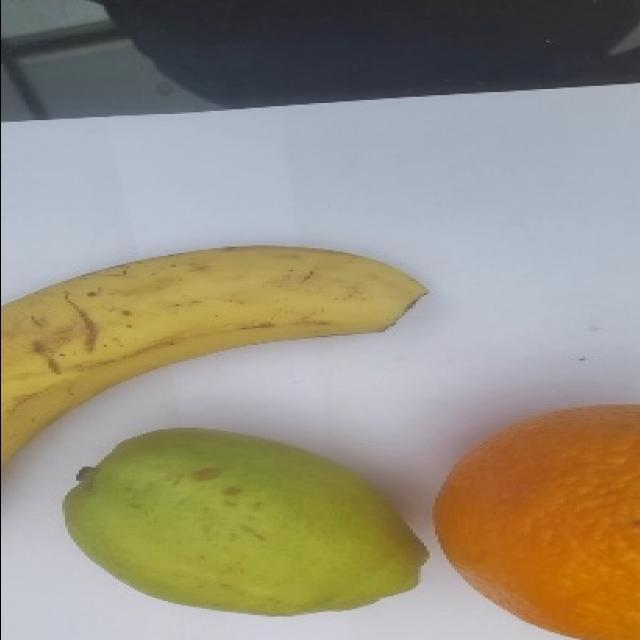Banana: (0, 244, 429, 472)
Orange: (435, 396, 639, 640)
